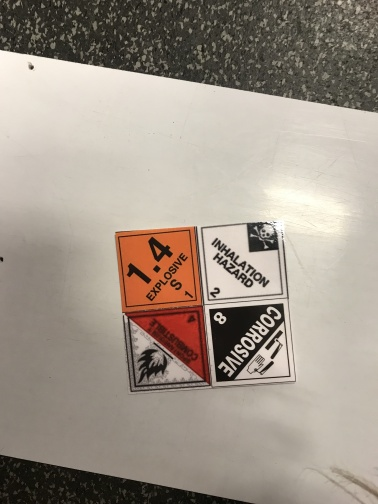Corrosive: (205, 300, 295, 387)
Explosive: (115, 226, 202, 313)
InhalationHazard: (198, 220, 289, 304)
SpontaneouslyCombustible: (122, 307, 212, 393)
